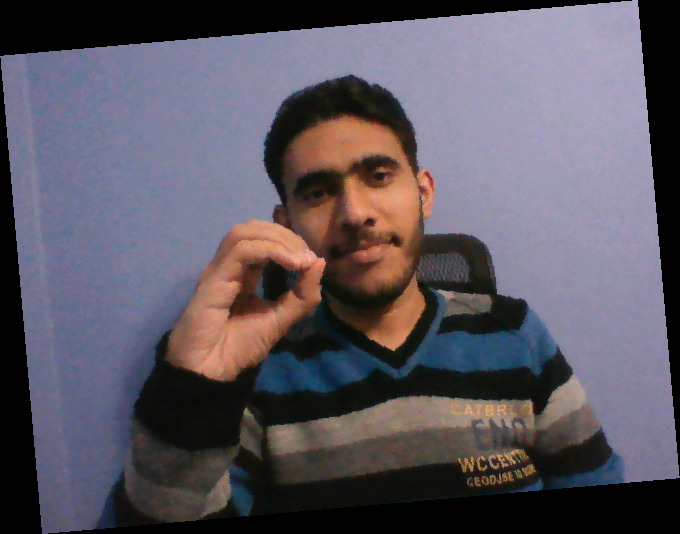O: (158, 219, 331, 391)
